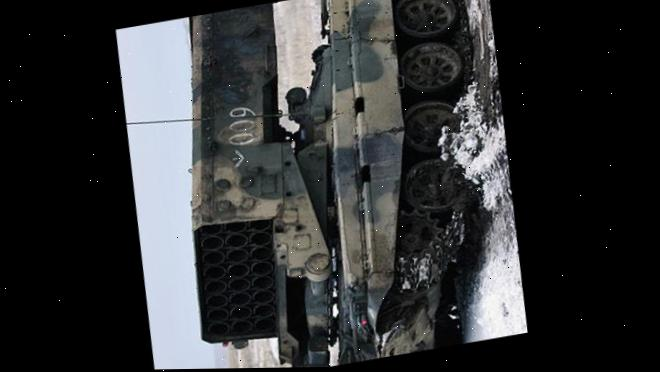rszo: (130, 0, 517, 370)
